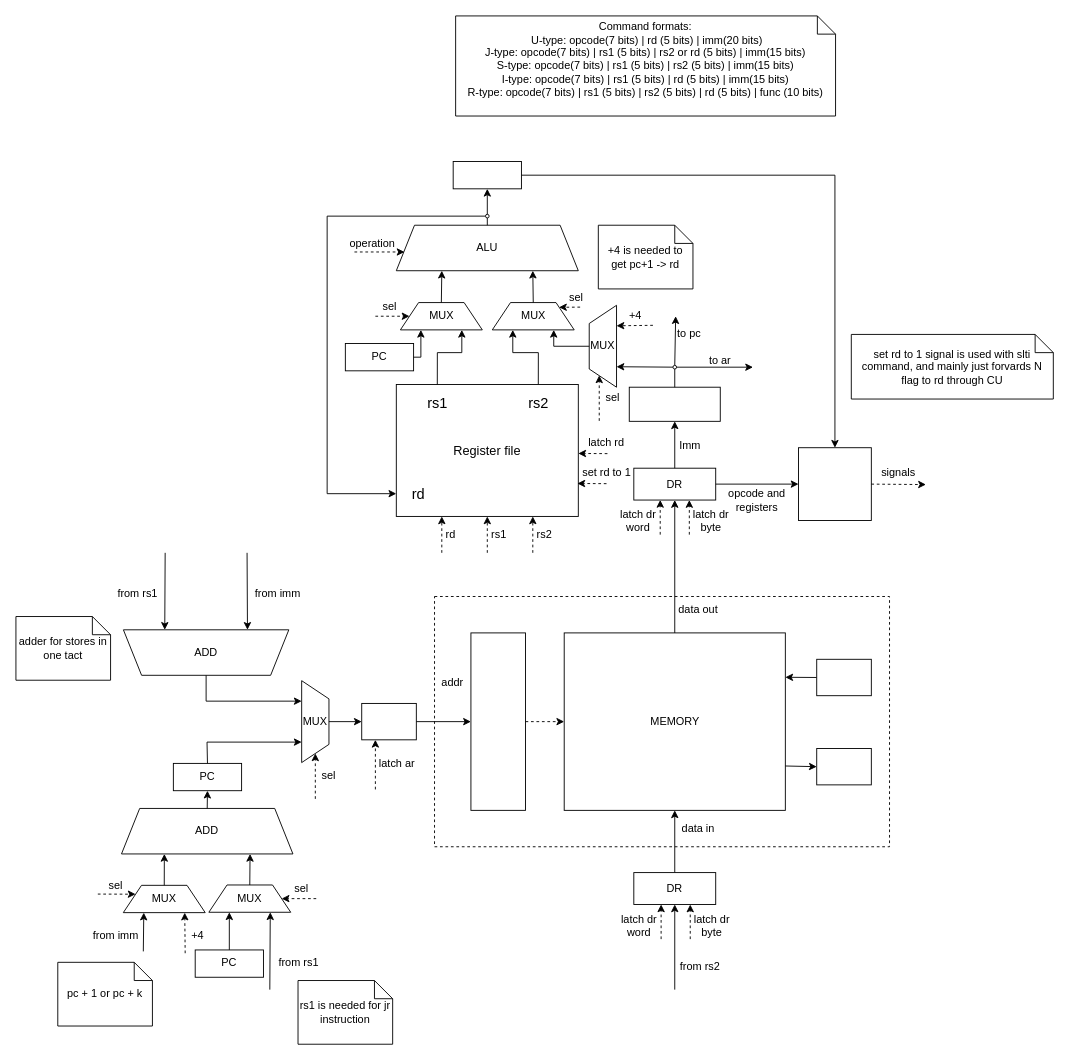
Image size: 1069x1060. Some labels were removed from this diagram. Each missing label, with the centre of its shape:
"Address decoder" goes at pixel 498 721.
"AR" goes at pixel 388 721.
"Control unit" goes at pixel 834 484.
"IN" goes at pixel 843 677.
"NZVC" goes at pixel 486 175.
"OUT" goes at pixel 843 766.
"Sign extend" goes at pixel 674 403.
